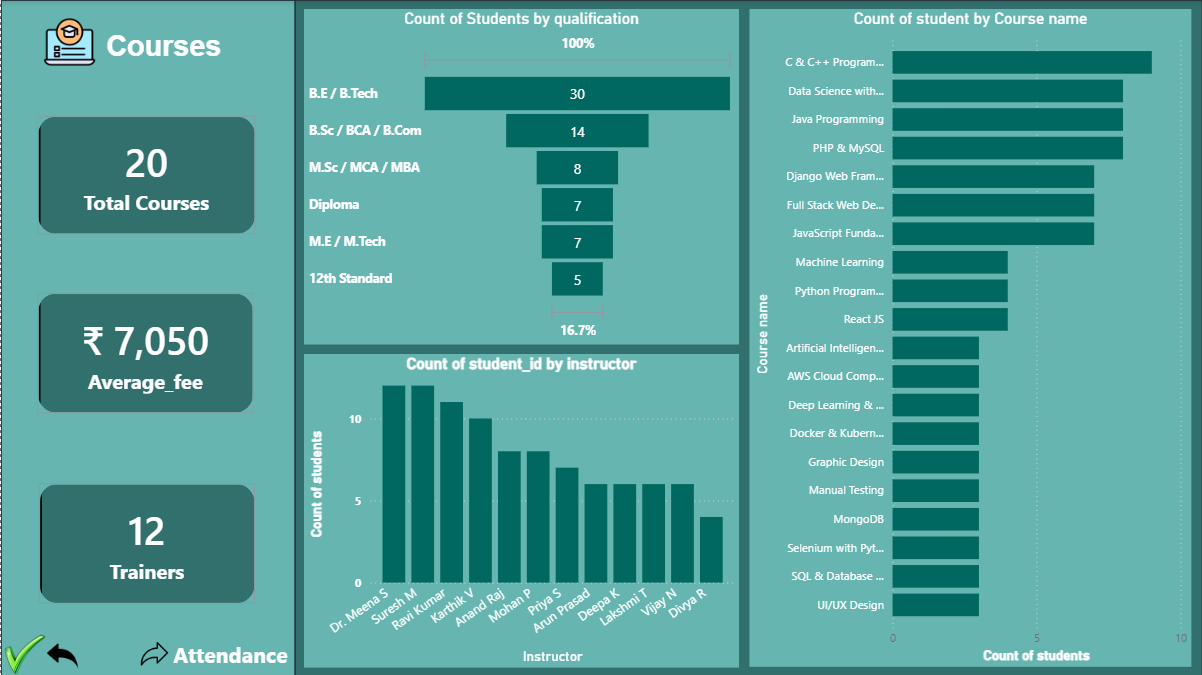

What the dashboard file says about the page in this screenshot:
{"tool":"powerbi","page":{"name":"Courses","canvas":[1280,720],"ordinal":2},"visuals":[{"type":"shape","box":[0,0,313.3,900],"z":0},{"type":"shape","box":[313.1,0,966.6,720.5],"z":1000},{"type":"columnChart","fields":{"Category":["learnwin_tech courses.instructor"],"Y":["CountNonNull(learnwin_tech registrations.student_id)"]},"box":[322.5,376.7,463.3,334.2],"z":2000},{"type":"cardVisual","fields":{"Data":["learnwin_tech attendance.Trainers"]},"box":[22.4,496.9,266.8,164.6],"z":3000},{"type":"cardVisual","fields":{"Data":["learnwin_tech attendance.Total Courses"]},"box":[20.8,105.4,268.4,163],"z":4000},{"type":"cardVisual","fields":{"Data":["learnwin_tech courses.Average_fee"]},"box":[20.8,294,266.8,164.6],"z":5000},{"type":"barChart","title":"Count of student by Course name","fields":{"Category":["learnwin_tech courses.course_name"],"Y":["CountNonNull(learnwin_tech registrations.student_id)"]},"box":[797.5,10,470.8,700.8],"z":6000},{"type":"funnel","title":"Count of Students by qualification","fields":{"Category":["learnwin_tech students.qualification"],"Y":["CountNonNull(learnwin_tech students.id)"]},"box":[322.5,10,463.3,357.5],"z":7000},{"type":"actionButton","box":[62.3,9.6,222.1,78.3],"z":8000},{"type":"actionButton","box":[174.1,672.6,140.6,47.9],"z":9000},{"type":"image","box":[136,672.7,55.3,47.3],"z":10000},{"type":"image","box":[45,15,56.7,60],"z":11000},{"type":"image","box":[45,673.3,41.7,46.7],"z":12000},{"type":"image","box":[0,675,51.7,45],"z":13000}]}

Visuals, with their boxes in screenshot pixels (x1, y1, x2, y2), scaled from the page's 1280x720 canvas onto the 1202x675 screenshot:
shape: x1=0 y1=0 x2=294 y2=674
shape: x1=294 y1=0 x2=1201 y2=674
columnChart - learnwin_tech courses.instructor x CountNonNull(learnwin_tech registrations.student_id): x1=303 y1=353 x2=738 y2=666
cardVisual - learnwin_tech attendance.Trainers: x1=21 y1=466 x2=272 y2=620
cardVisual - learnwin_tech attendance.Total Courses: x1=20 y1=99 x2=272 y2=252
cardVisual - learnwin_tech courses.Average_fee: x1=20 y1=276 x2=270 y2=430
"Count of student by Course name" barChart: x1=749 y1=9 x2=1191 y2=666
"Count of Students by qualification" funnel: x1=303 y1=9 x2=738 y2=345
actionButton: x1=59 y1=9 x2=267 y2=82
actionButton: x1=163 y1=631 x2=296 y2=674
image: x1=128 y1=631 x2=180 y2=674
image: x1=42 y1=14 x2=96 y2=70
image: x1=42 y1=631 x2=81 y2=674
image: x1=0 y1=633 x2=49 y2=674
